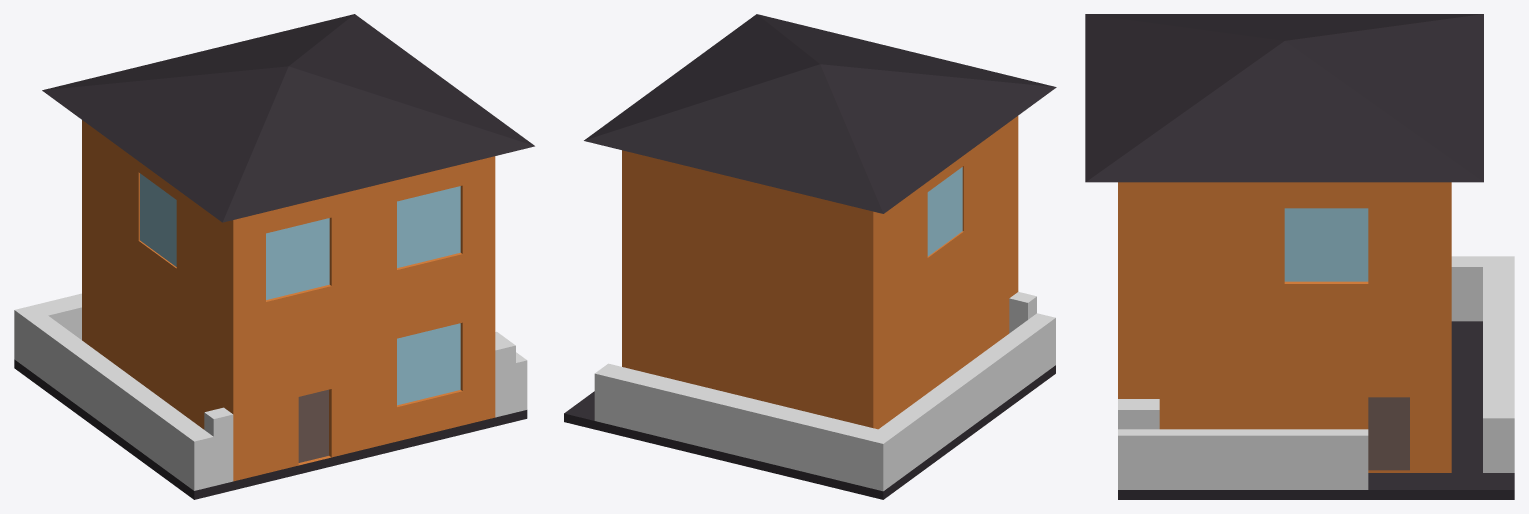
The model's file is HouseImp06.fbx.
3 renders of one model, left to right at view 1: azimuth 30°, elevation 25°; view 2: azimuth 150°, elevation 25°; view 3: azimuth 270°, elevation 25°, orthographic. The views are drawn at different scales.
Visible parts, largest first — view 1: Cube; view 2: Cube; view 3: Cube.
Part boxes in pixels (box(x1,y1,x2,y2)): Cube: box(14, 14, 534, 499); Cube: box(564, 14, 1056, 499); Cube: box(1085, 14, 1514, 499).
Size of the model in its own units: 102 by 98.21 by 103.
